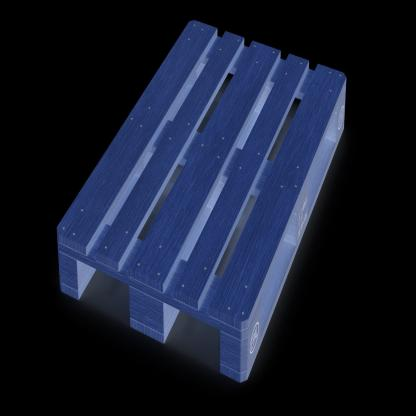BoxFace: (53, 19, 347, 387)
